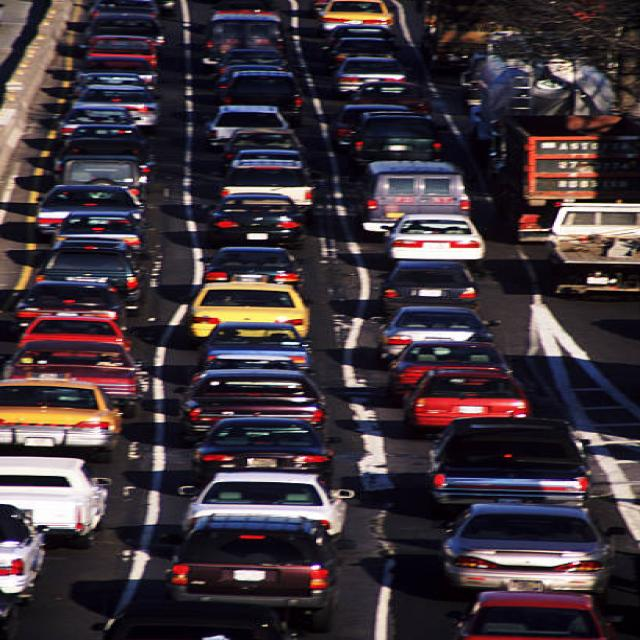high_traffic: (35, 31, 569, 569)
